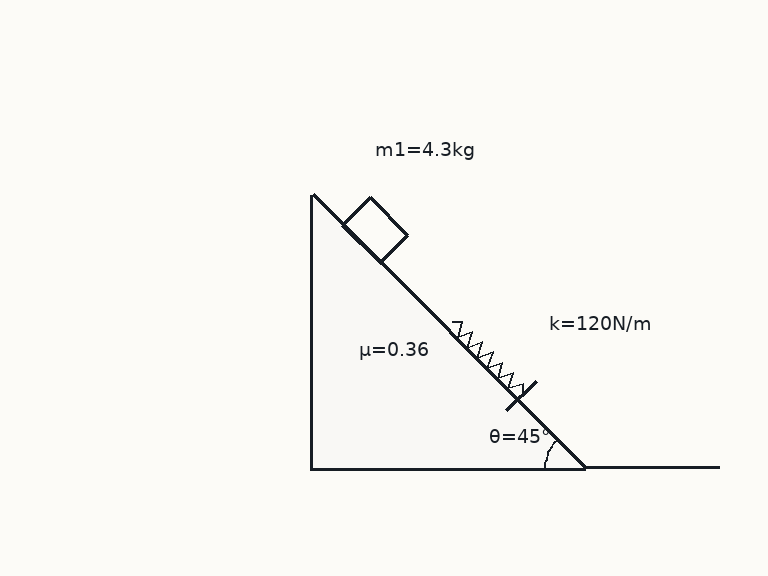block: (340, 195, 409, 265)
ramp: (309, 192, 587, 470)
spring: (450, 320, 525, 395)
